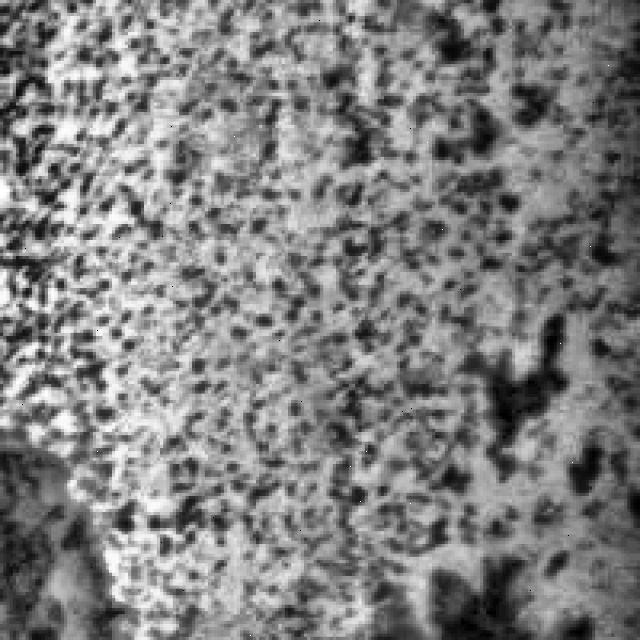Rolled_in_Scale: (61, 0, 589, 637)
Scratches: (0, 436, 115, 630), (416, 547, 538, 637)
